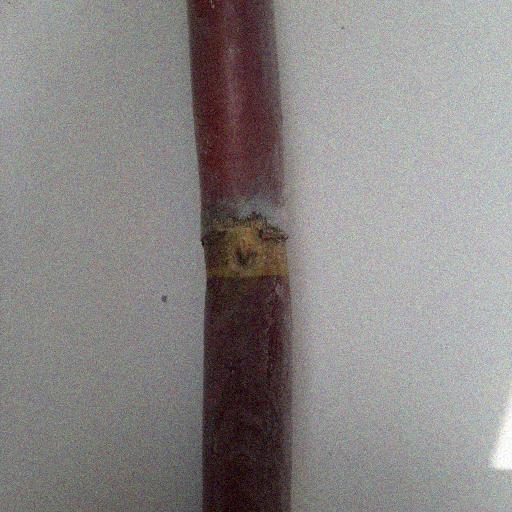Bud: (232, 239, 260, 269)
